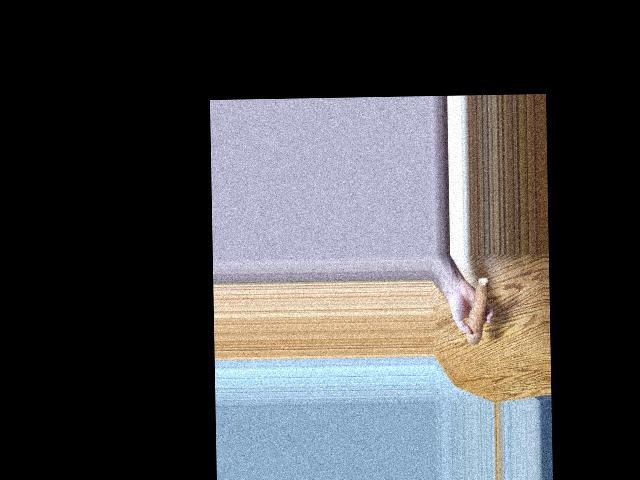sweet_potato: (468, 272, 490, 348)
